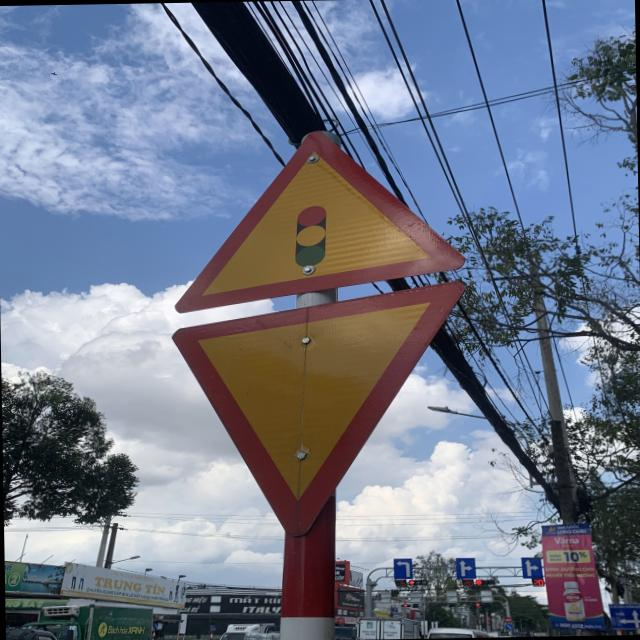Duong_Co_Go_Giam_Toc: (171, 126, 465, 307)
Gioi_Han_Toc_Do_25: (172, 284, 468, 538)
